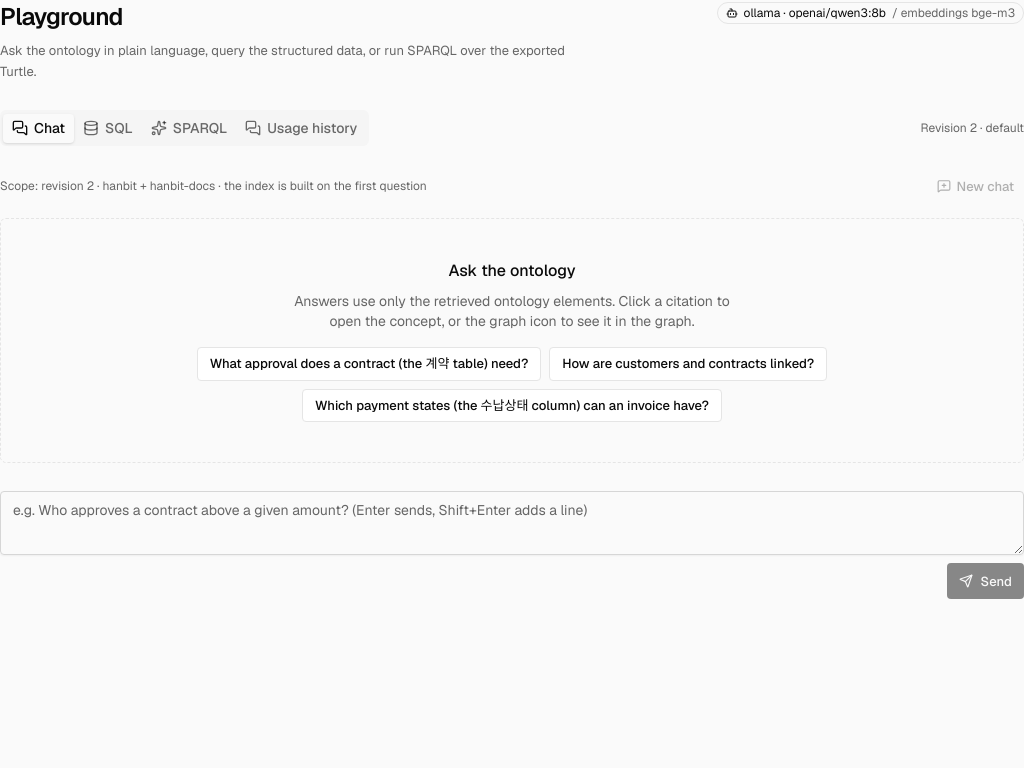
it: playground page › asks the ontology, renders the cited answer, and a citation opens the concept sheet
The width and height of the screenshot is (1024, 768).
Check: the text "Scope: revision 2 · hanbit + hanbit-docs" is shown, box [0,178,215,194]
Type "계약이란?" into the text box named "Question" at (512, 524), box [0,492,1023,556]
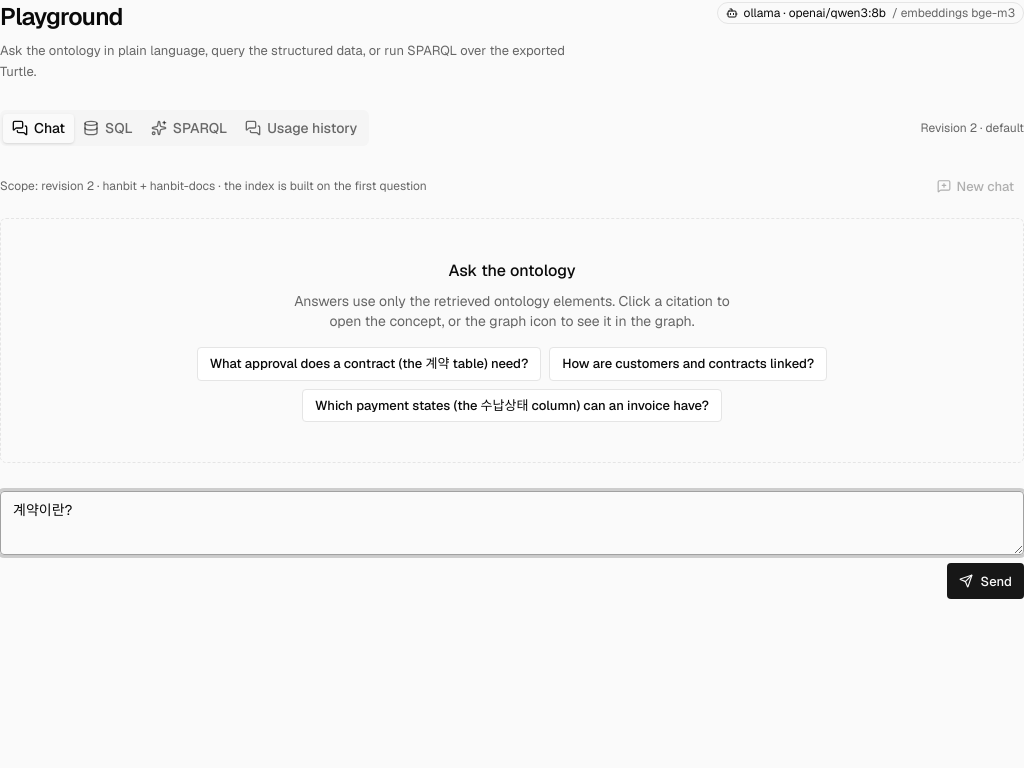
Click the button "Send" at (985, 582), box [947,564,1023,600]
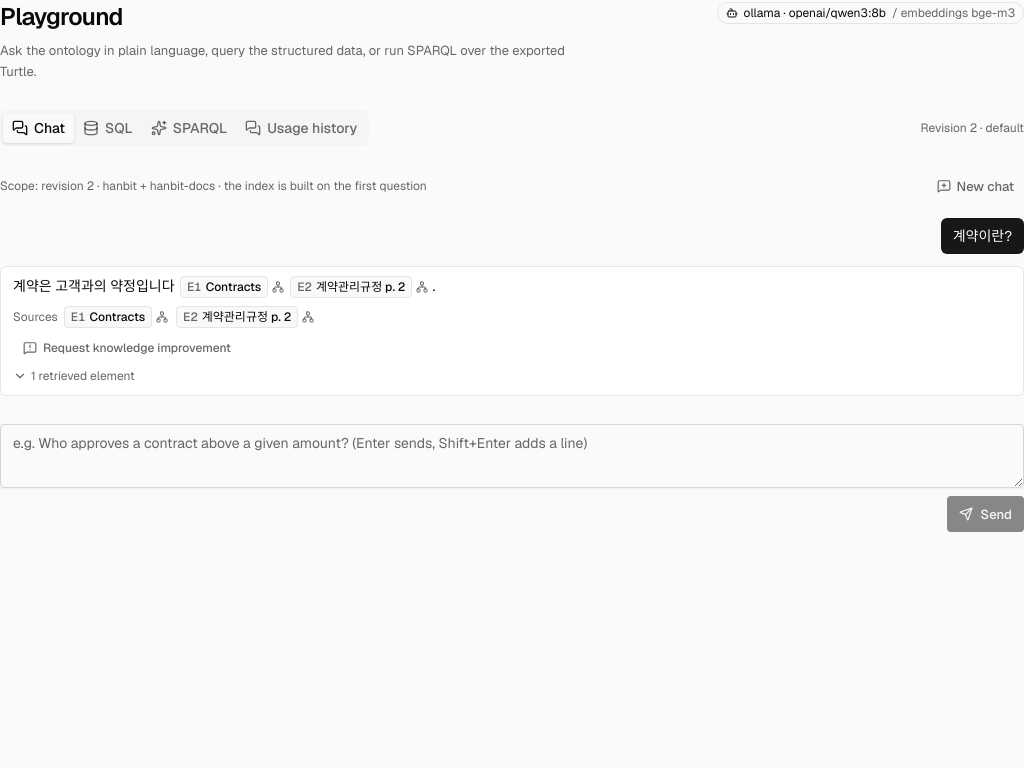
Click the button "E2 계약관리규정 p. 2" in the row of "계약은 고객과의 약정입니다" at (351, 288), box [290,276,412,298]
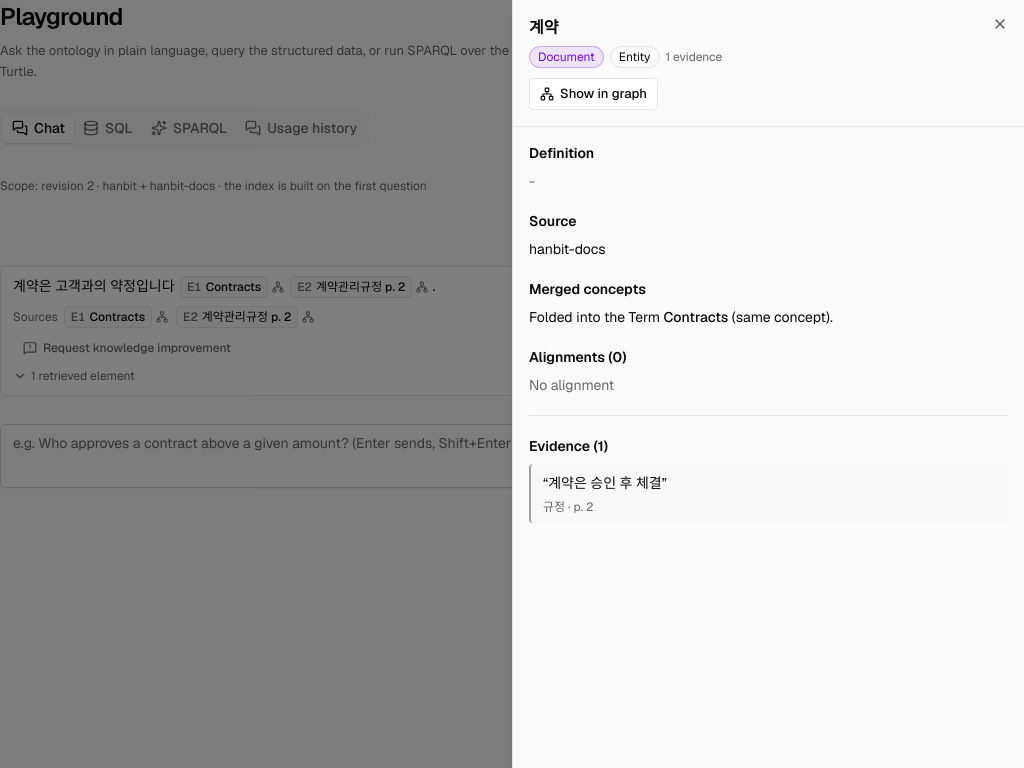
Check: the text "“계약은 승인 후 체결”" is shown, box [543,474,667,492]
Check: the text "Folded into the Term Contracts (same concept)." is shown, box [529,307,833,327]
